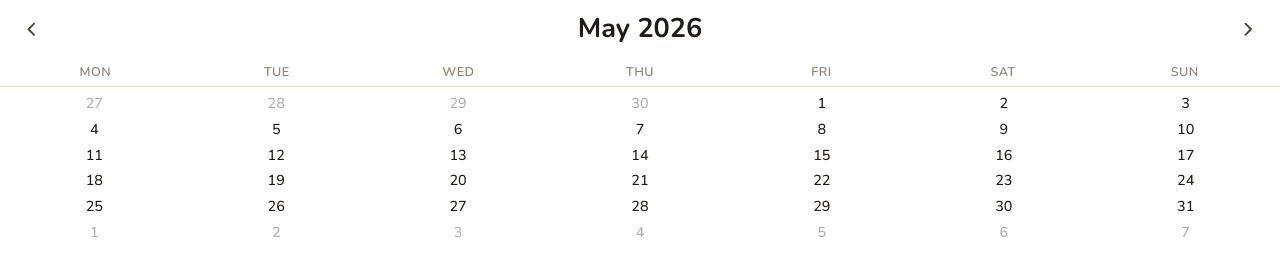
Test case: MonthView — navigation › clicking Next month changes the title
Step 1. Click the button named "Next month" → x=1248, y=29, box [1230, 11, 1266, 47]
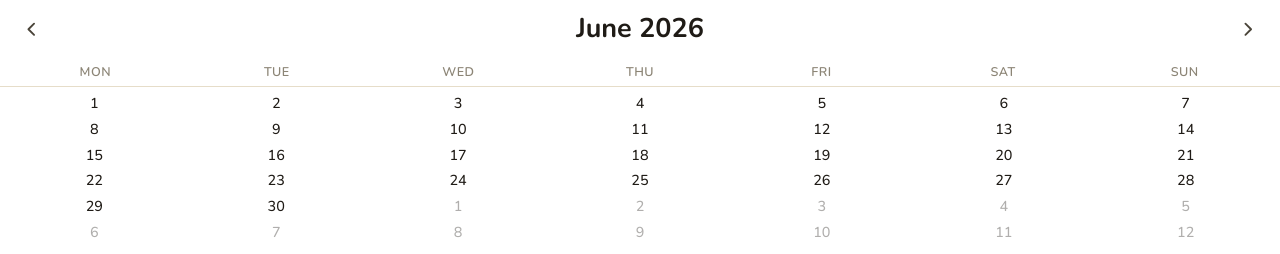
Now the heading with class "month-view__title" reads "June 2026", box [576, 10, 704, 47]
